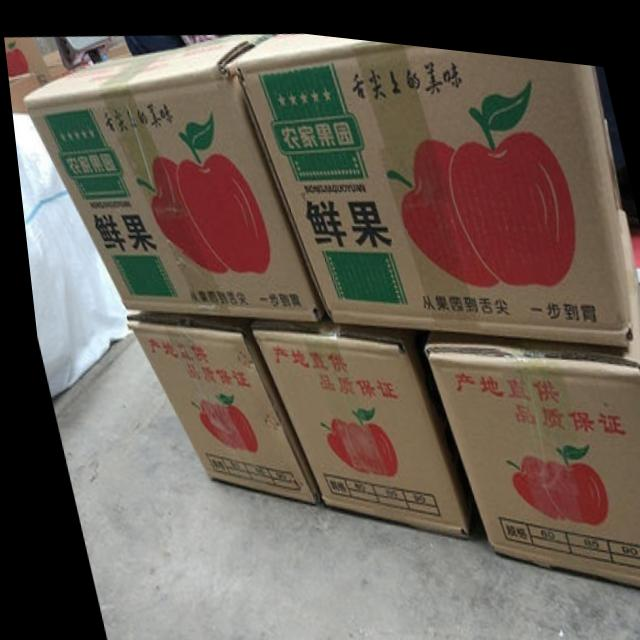box: (230, 27, 628, 333), (17, 30, 319, 315), (417, 197, 640, 577), (243, 314, 467, 529), (118, 305, 310, 499)
